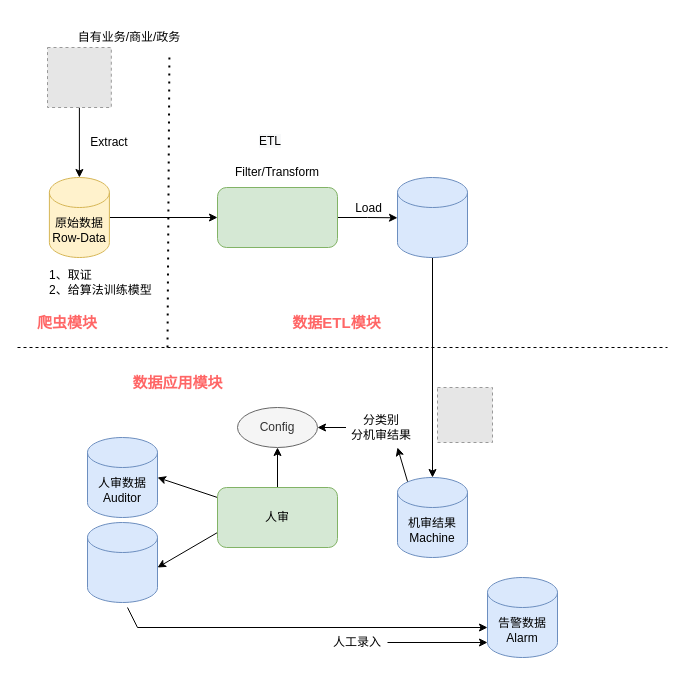
This 686x675 diagram has some shape labels left out. Grey dashed boxes stand in for pictures. Here are the shapes that lost their labels. From the top down, the centre of each, then its label:
At [277,217]: "数据处理 spider_data_process（新旧两套）".
At [432,217]: "基础数据 Case-Base".
At [122,562]: "风险数据 Risk-Case".
